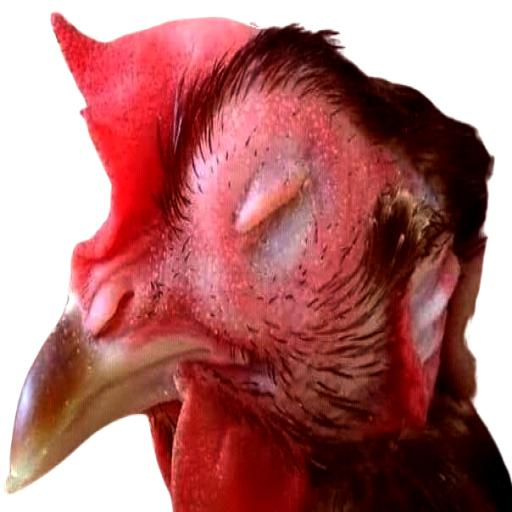disease: (182, 92, 390, 304)
